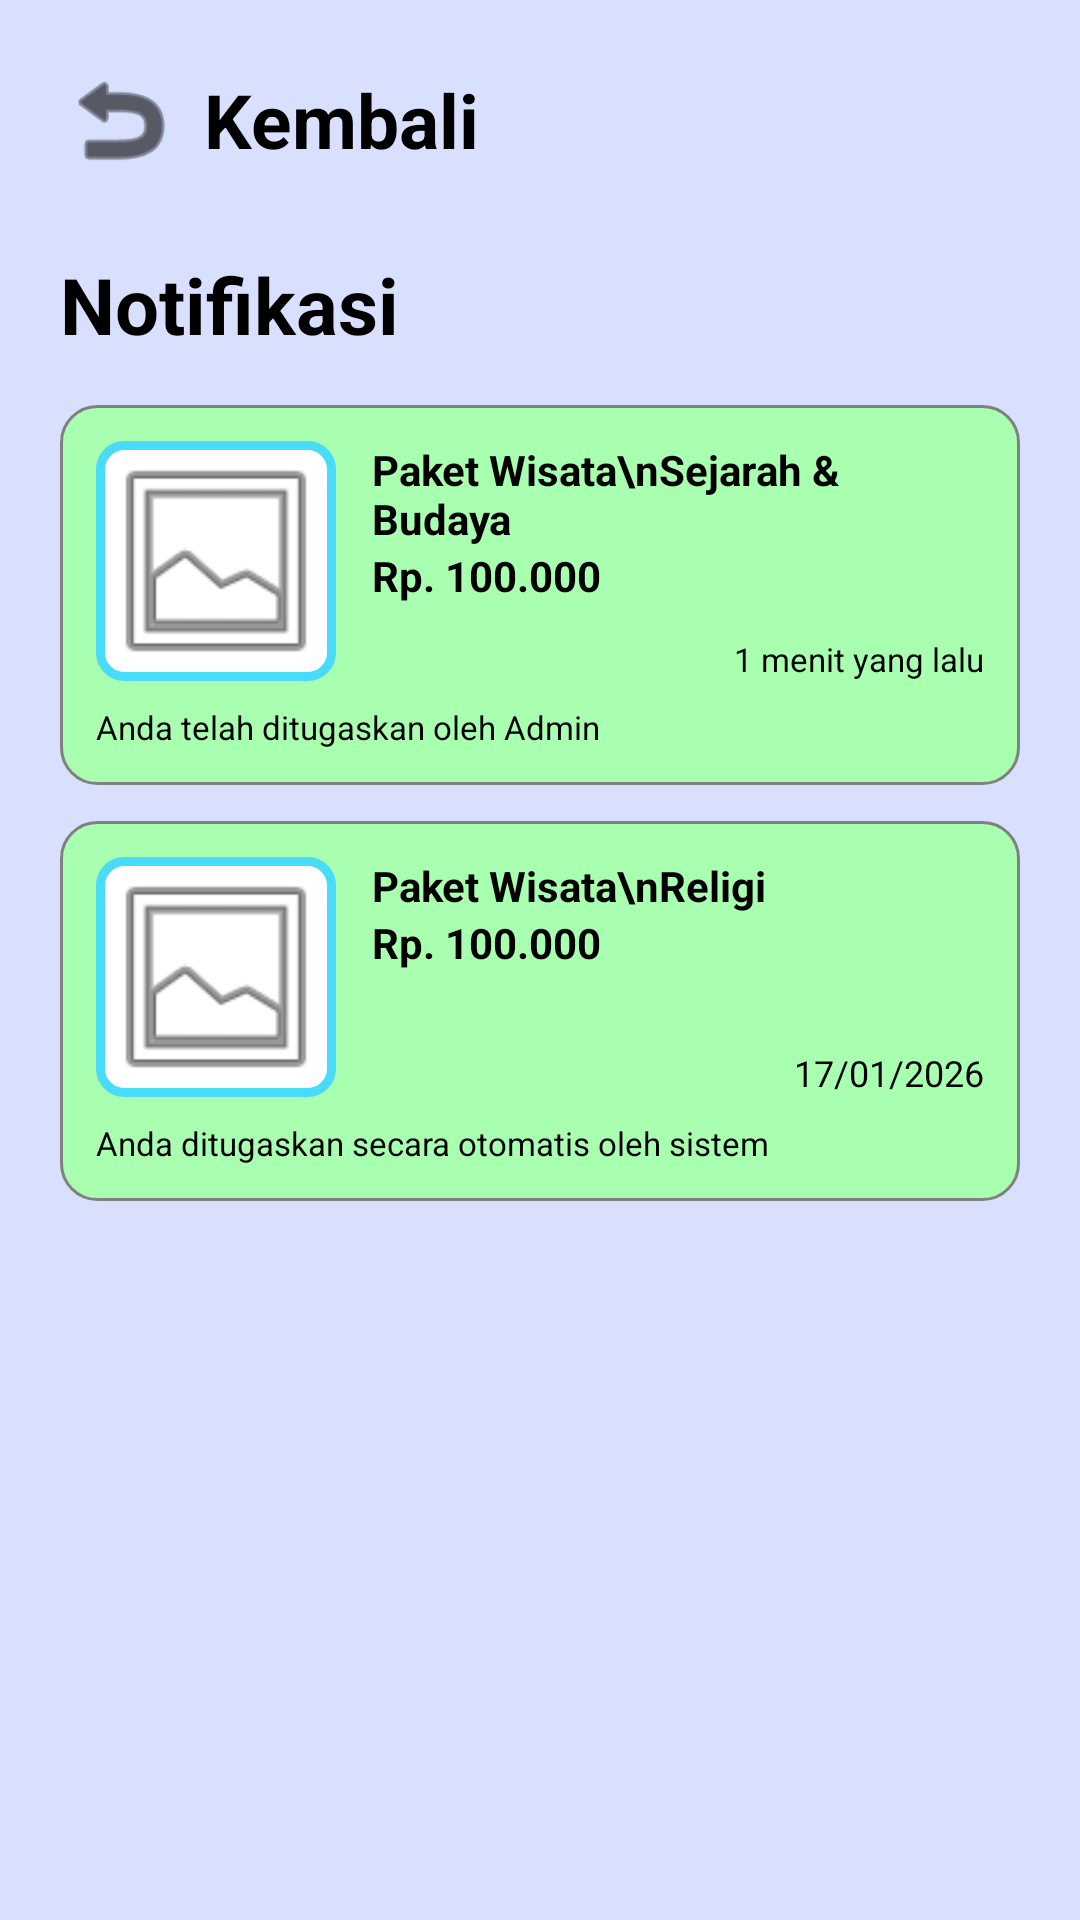

Icon click points for this 1080px×1920px phone screenshot, format (x,y):
gallery: (216,561), (216,977)
revert: (121,120)
